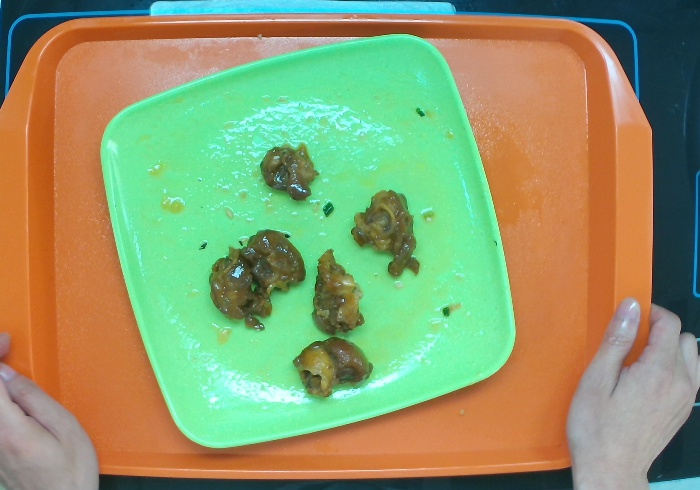ZNLD-Lv_Fang_Pan: (96, 29, 519, 454)
